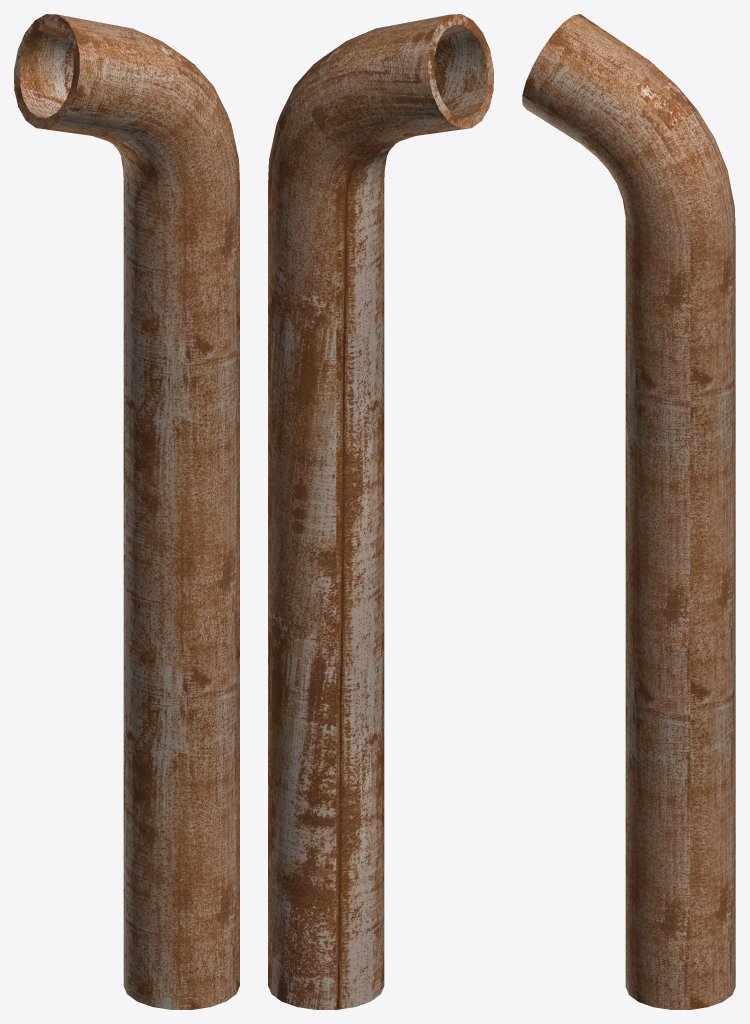
Rendered from pipe.fbx.
The picture shows the model from 3 angles, left to right: view 1: azimuth 30°, elevation 25°; view 2: azimuth 150°, elevation 25°; view 3: azimuth 330°, elevation 25°; orthographic projection. The views are drawn at different scales.
Parts seen in each view (by area): view 1: Tube001; view 2: Tube001; view 3: Tube001.
Part boxes in pixels (<box>): Tube001: <box>14,14,239,1009</box>; Tube001: <box>268,14,493,1009</box>; Tube001: <box>522,14,735,1009</box>.
Size of the model in its own units: 26.41 by 125 by 13.29.
1 material, 1 textured.
